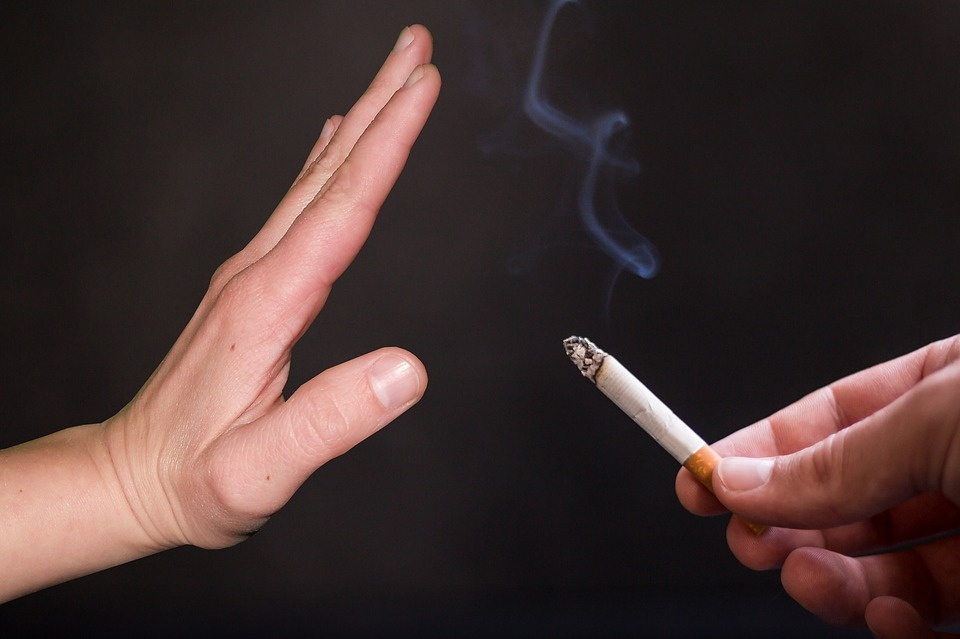sigaretta: (564, 339, 774, 535)
